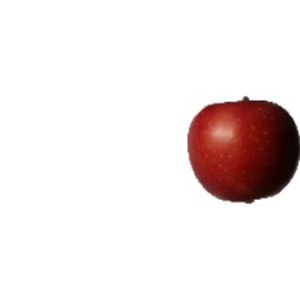maçã braeburn: (188, 94, 298, 201)
